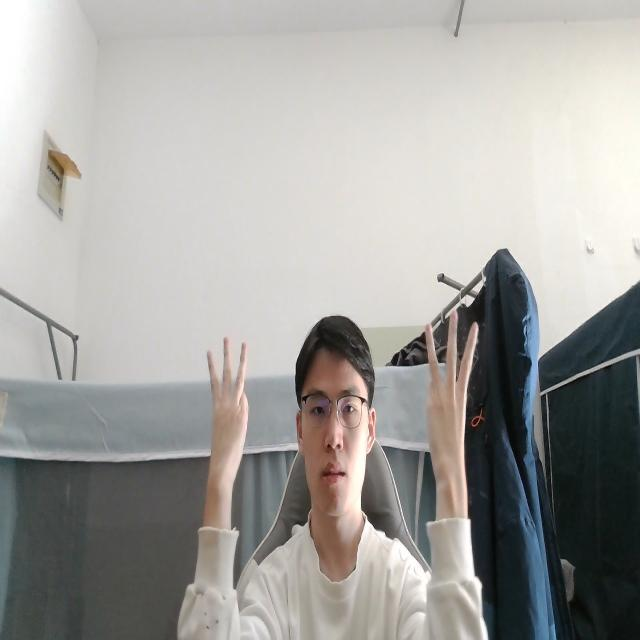three: (421, 302, 477, 500), (204, 333, 252, 487)
